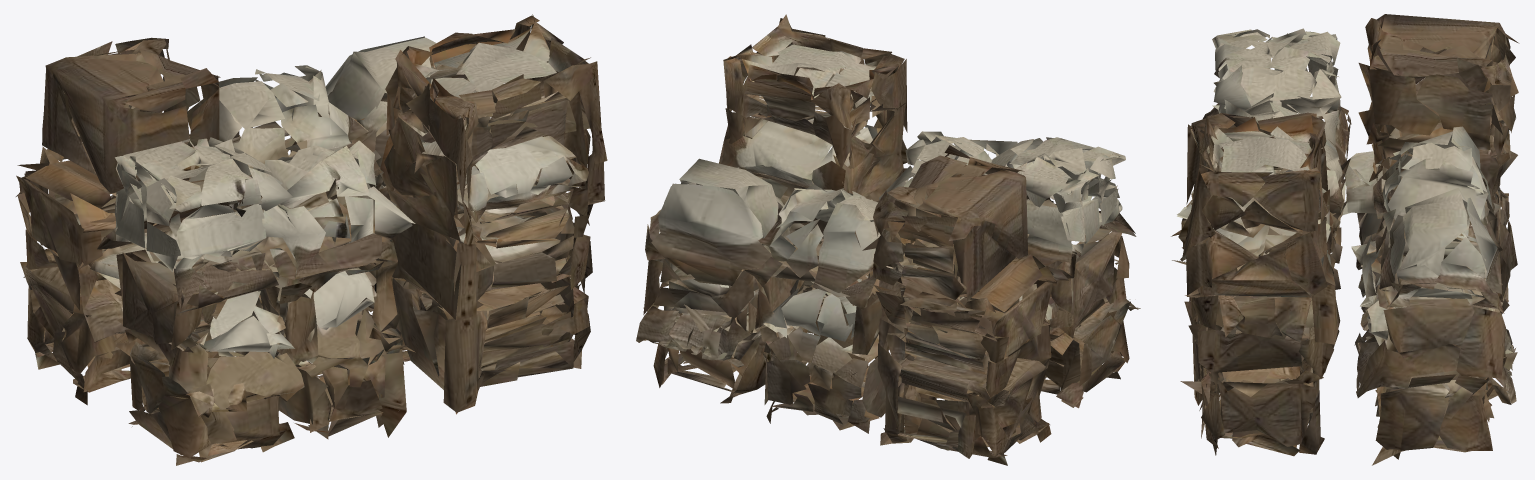
File: crate-stack-interior-lod.glb
3 renders of one model, left to right at view 1: azimuth 30°, elevation 25°; view 2: azimuth 150°, elevation 25°; view 3: azimuth 270°, elevation 25°, orthographic. The views are drawn at different scales.
Visible parts, largest first — view 1: Mesh_0; view 2: Mesh_0; view 3: Mesh_0.
Boxes of the visible parts, left/top/right/bottom form: Mesh_0: left=16, top=14, right=607, bottom=465; Mesh_0: left=636, top=14, right=1140, bottom=465; Mesh_0: left=1171, top=14, right=1519, bottom=465.
Bounding box in the file's own units: 1.93 × 1.44 × 1.48.
Materials: 1 (1 with a texture image).
